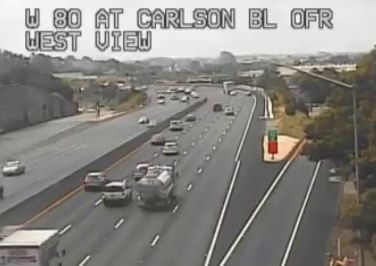car: (102, 181, 131, 203), (83, 172, 109, 187), (162, 142, 178, 154), (169, 120, 183, 130), (151, 134, 164, 144)
small-truck: (1, 229, 60, 266)
tank-truck: (136, 165, 177, 210)
